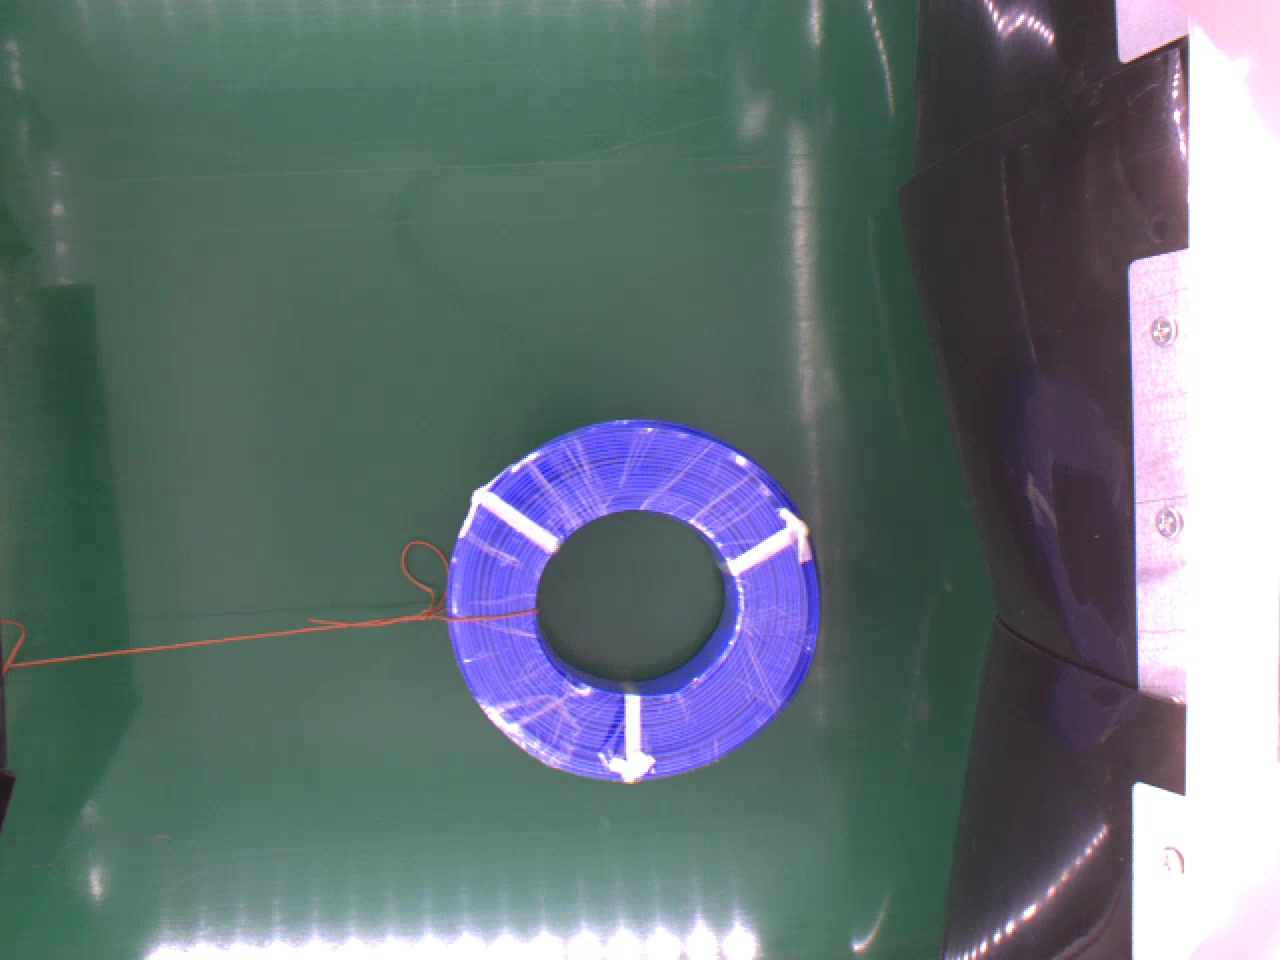blue: (442, 411, 821, 785)
